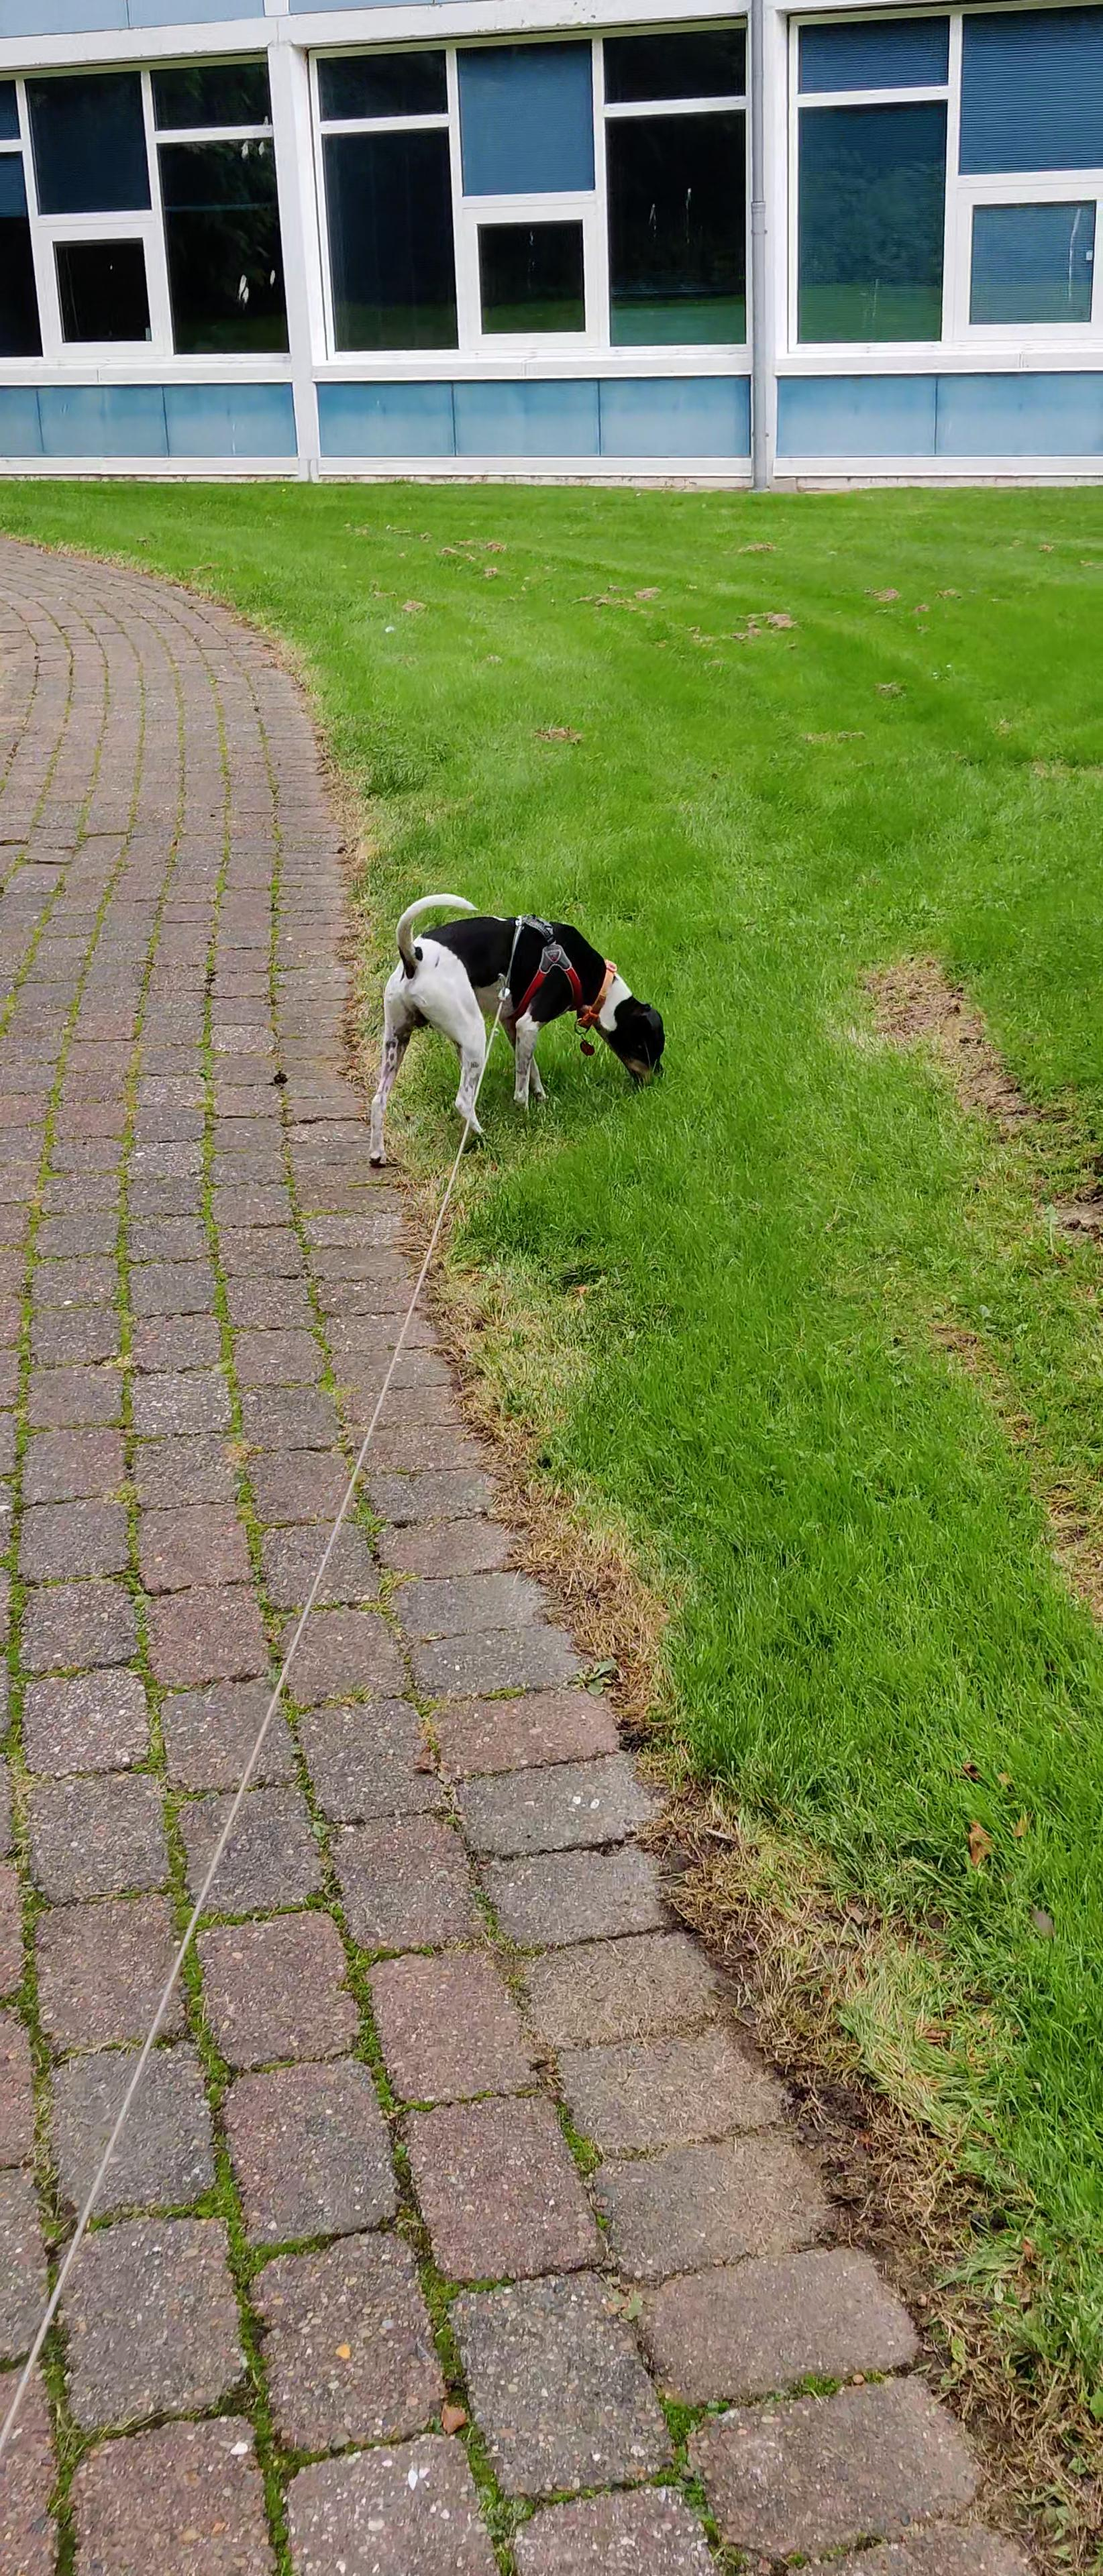Dog: (355, 889, 671, 1180)
